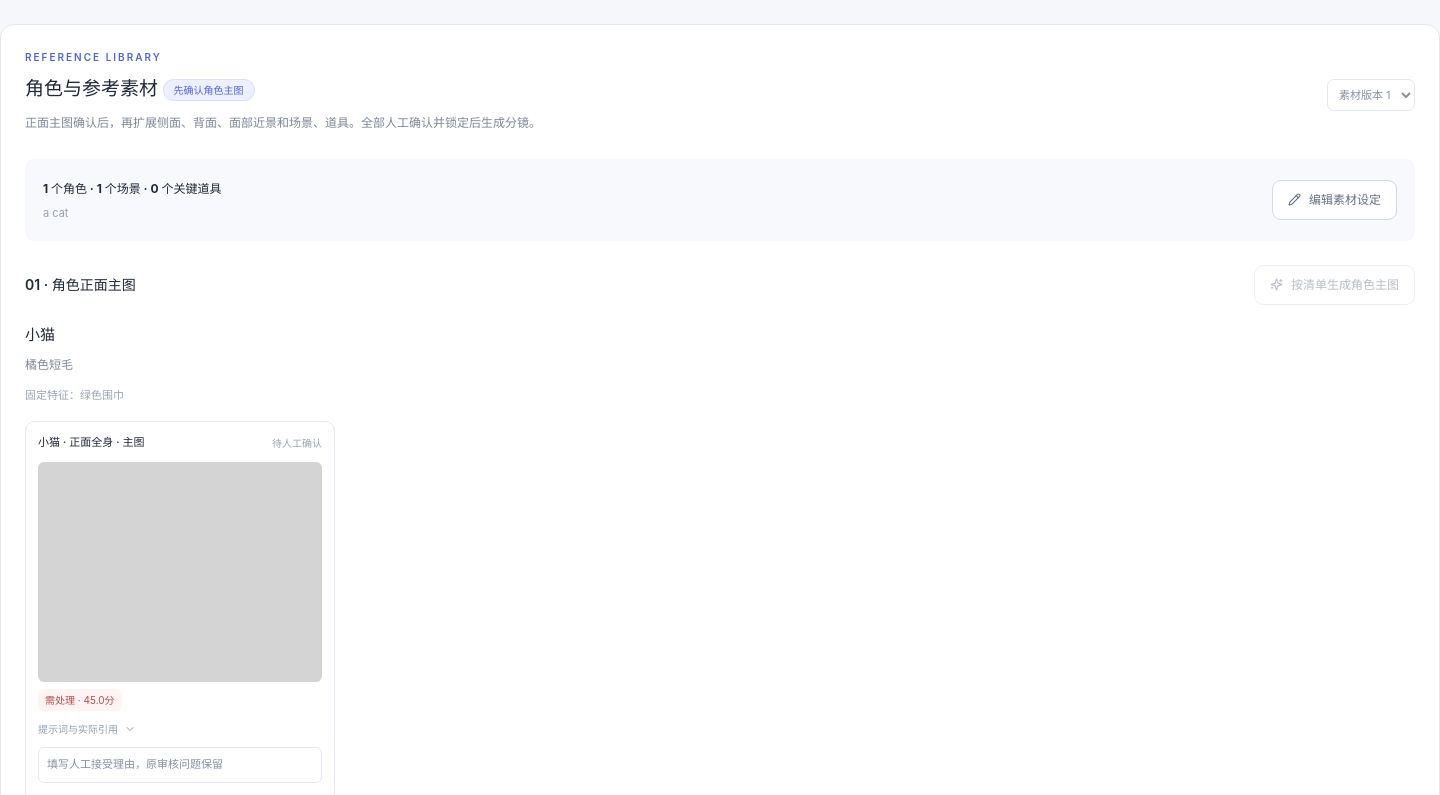
Test case: 参考素材准备 › 未完成审核不能人工接受，失败审核须填写理由
Type "已人工核对" into the field labelled "填写人工接受理由，原审核问题保留" at (180, 765), box x1=38 y1=747 x2=322 y2=782
(page scrolled)
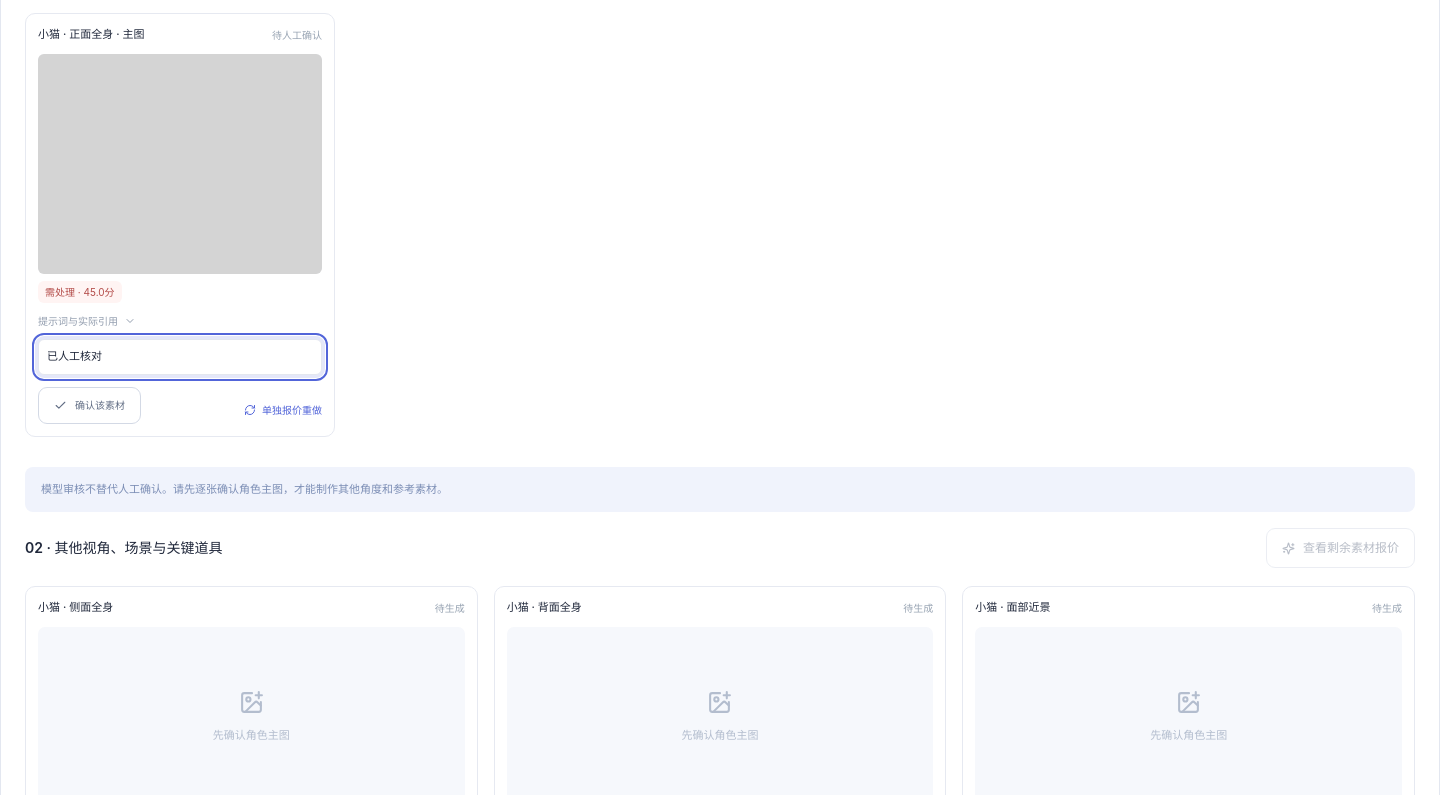
Result: the button "确认该素材" is enabled at x1=38 y1=386 x2=141 y2=424
